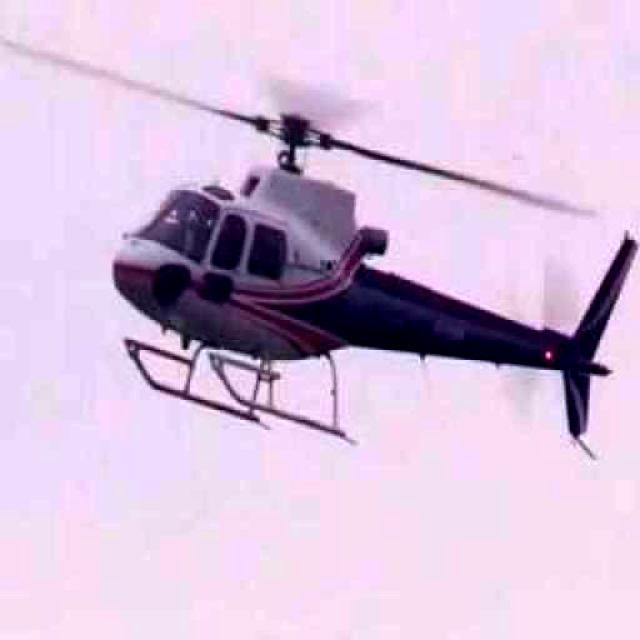drone: (0, 0, 640, 494)
